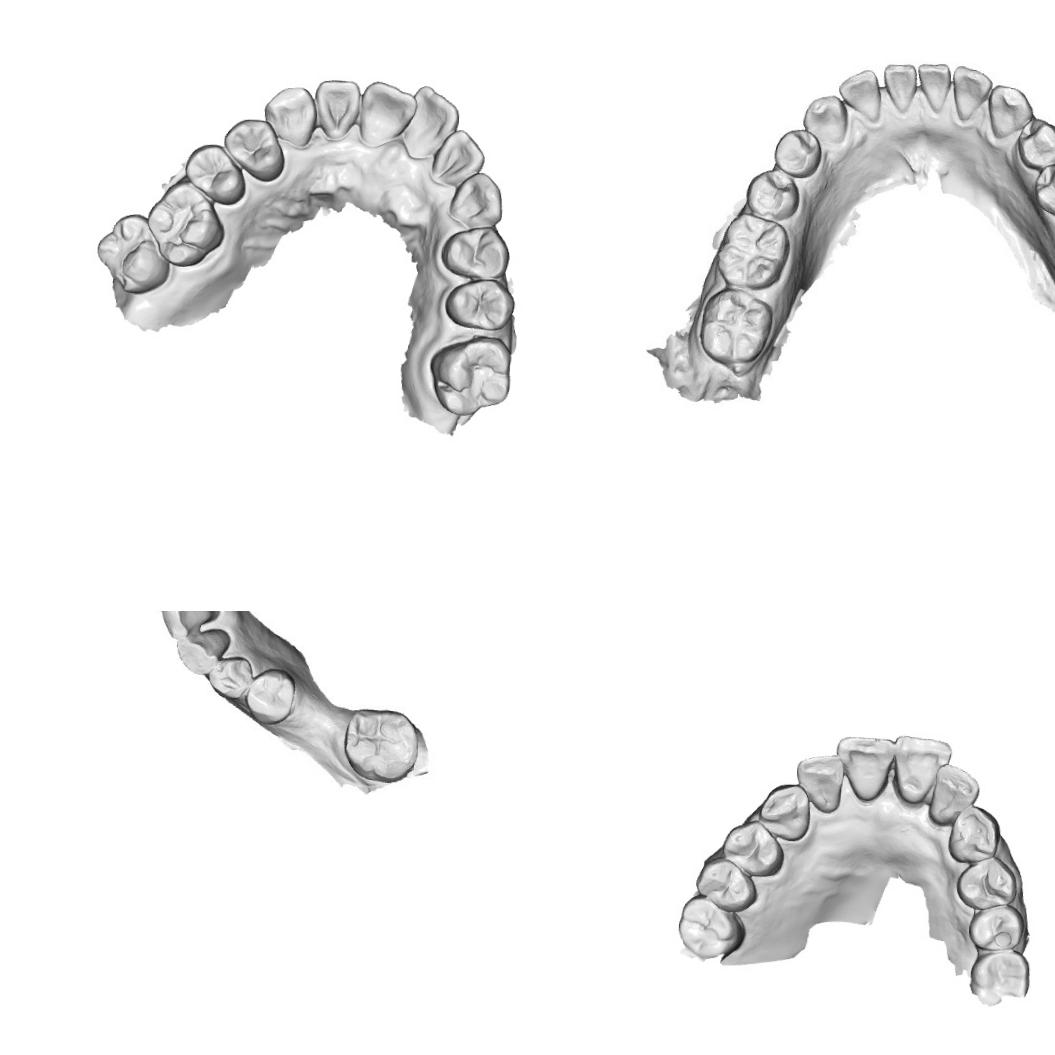canine: (260, 82, 318, 150), (444, 168, 506, 228), (946, 803, 1002, 865), (756, 781, 812, 842), (173, 625, 232, 676), (984, 82, 1034, 141), (801, 94, 853, 146)
incisor: (354, 78, 418, 148), (890, 734, 952, 806), (832, 732, 894, 802), (406, 81, 460, 161), (430, 126, 488, 188), (927, 762, 981, 827), (311, 74, 362, 142), (792, 751, 844, 814), (836, 68, 886, 119), (878, 56, 919, 113), (949, 66, 992, 119), (916, 58, 956, 110), (160, 611, 215, 641)
molar: (424, 333, 514, 421), (143, 177, 226, 269), (92, 210, 174, 296), (340, 702, 422, 786), (698, 288, 772, 371), (717, 214, 786, 289), (676, 891, 748, 960), (967, 948, 1031, 1008)
premolar: (218, 116, 286, 182), (181, 141, 248, 206), (438, 223, 514, 280), (720, 818, 786, 878), (443, 277, 514, 332), (694, 854, 759, 914), (955, 854, 1018, 912), (241, 664, 296, 727), (745, 166, 799, 224), (967, 901, 1025, 952), (769, 122, 821, 178), (1013, 116, 1055, 172), (206, 652, 254, 700), (1032, 163, 1055, 218)
